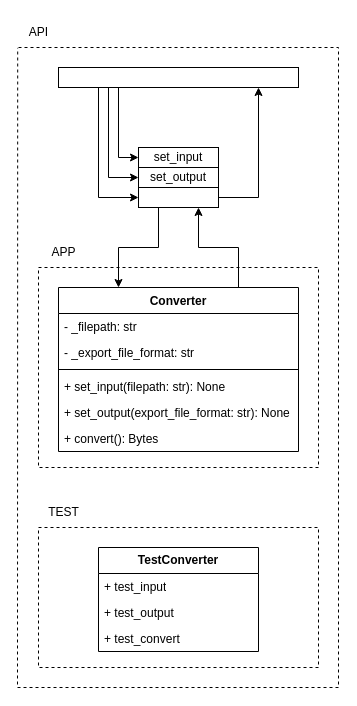
The diagram is 357 pixels wide and 706 high, and some of its shapes have lost their labels. The centre of each missing label's shape, as x and y in pixels:
"convert" goes at [178,197].
"Input / Output Interface" goes at [178,77].
